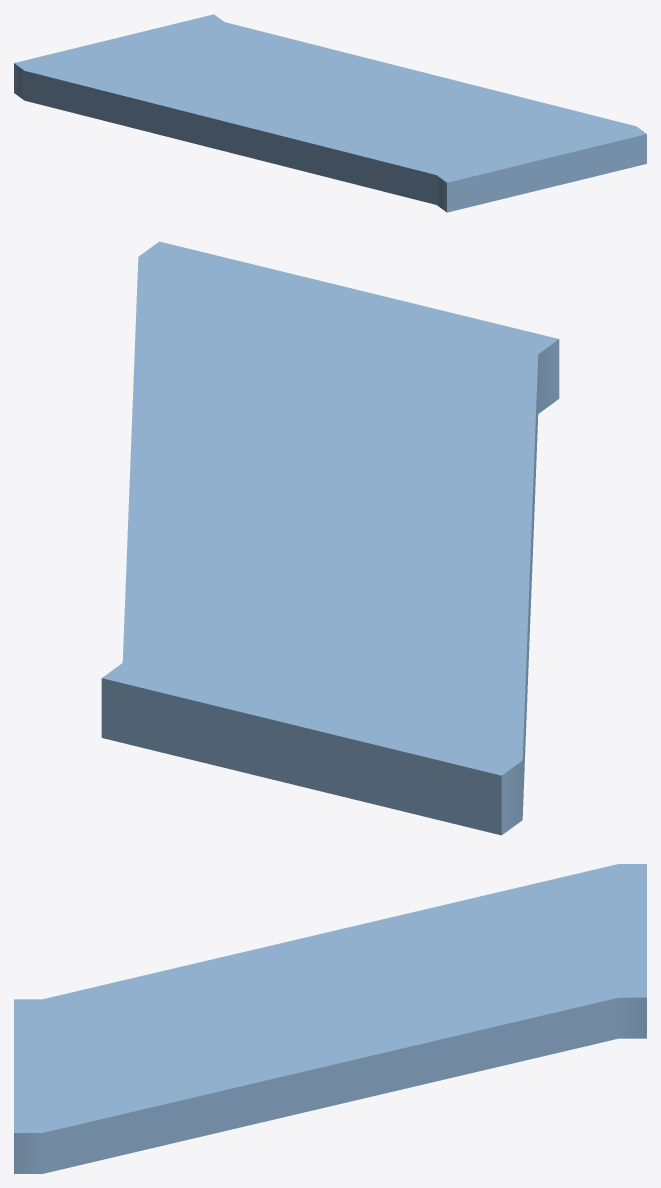
File: skewBend.fbx
3 renders of one model, top to bottom at view 1: azimuth 30°, elevation 25°; view 2: azimuth 150°, elevation 25°; view 3: azimuth 270°, elevation 25°, orthographic. The views are drawn at different scales.
Parts seen in each view (by area): view 1: skewBend; view 2: skewBend; view 3: skewBend.
Part boxes in pixels (x1,y1,x2,y2): skewBend: [14, 14, 646, 212]; skewBend: [101, 241, 559, 835]; skewBend: [14, 864, 646, 1173].
Bounding box in the file's own units: 704 × 50 × 700.
